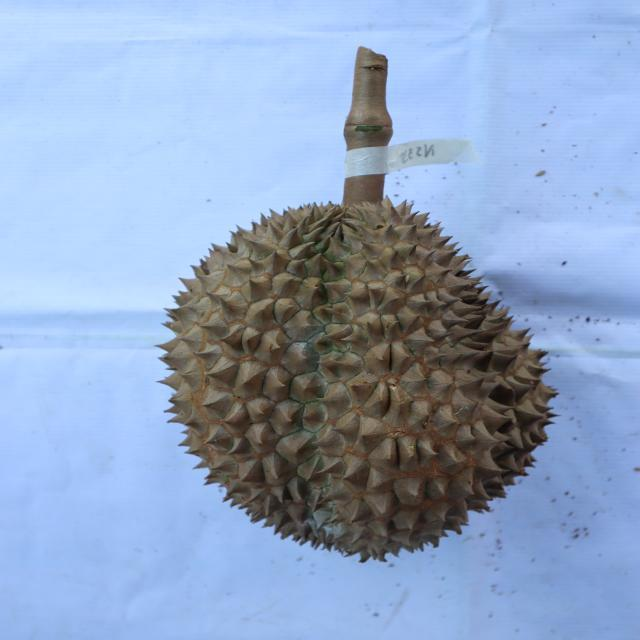mature: (155, 198, 560, 564)
